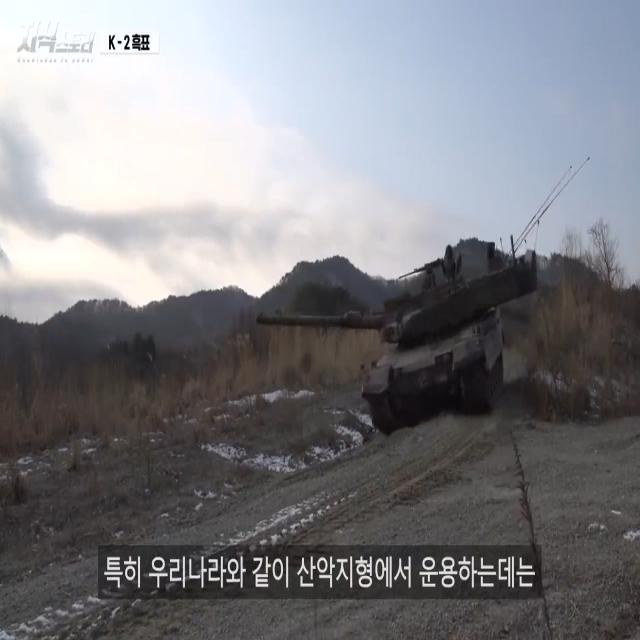korea tank: (253, 235, 539, 437)
